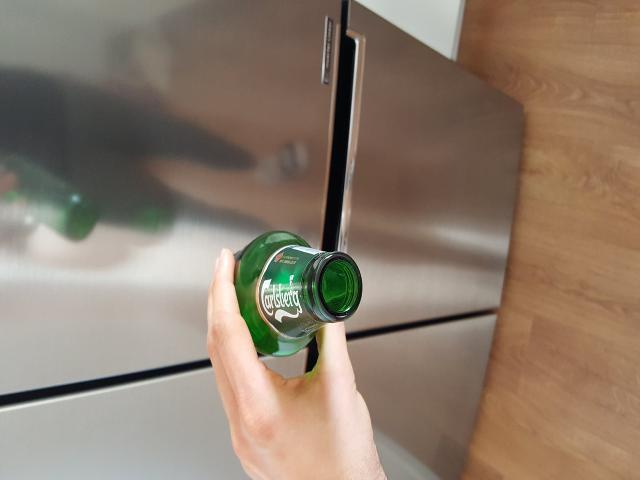beer: (233, 231, 362, 353)
